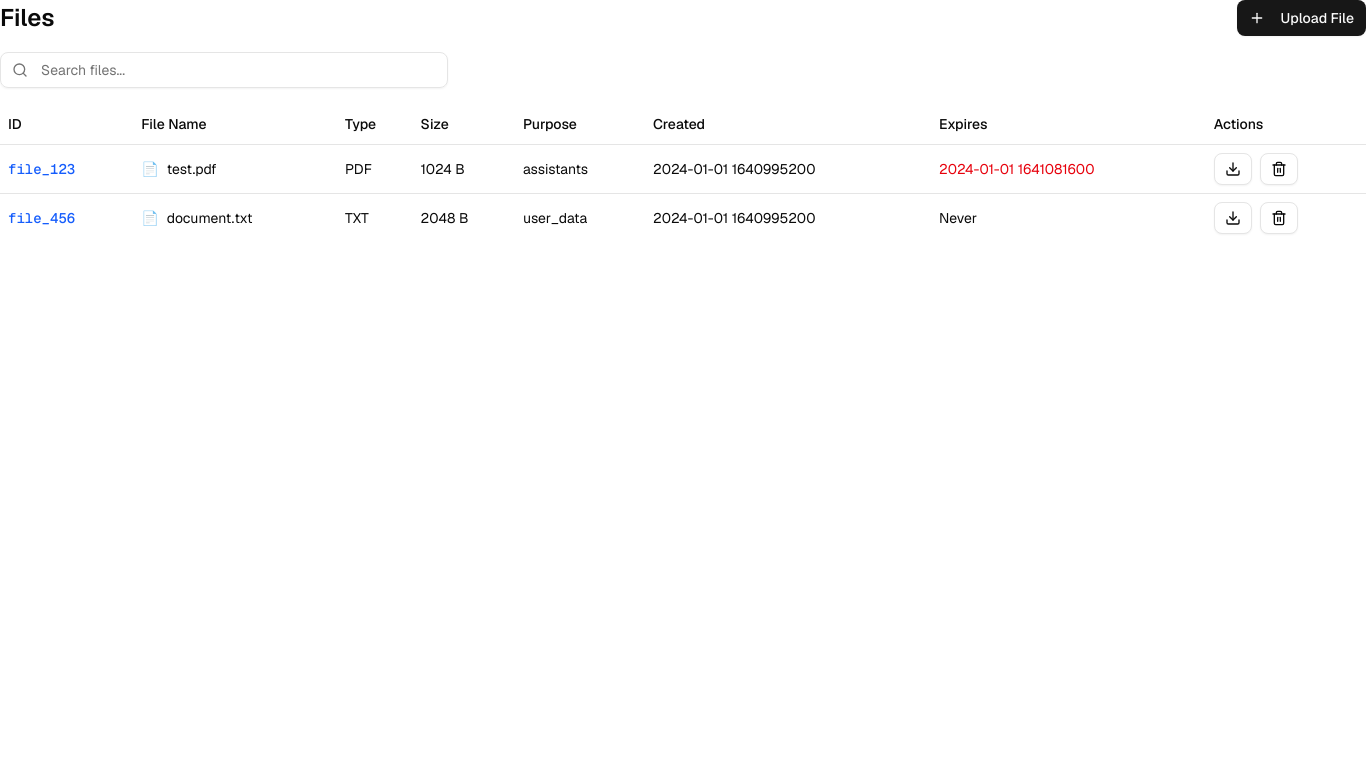
it: FilesManagement › Upload Modal › opens upload modal when upload button clicked
This screenshot has width=1366, height=768.
What coordinates should you click on to do the following:
click the button "Upload File"
I would click on:
 (1301, 18)
Its box is 1237,0 -> 1365,36.
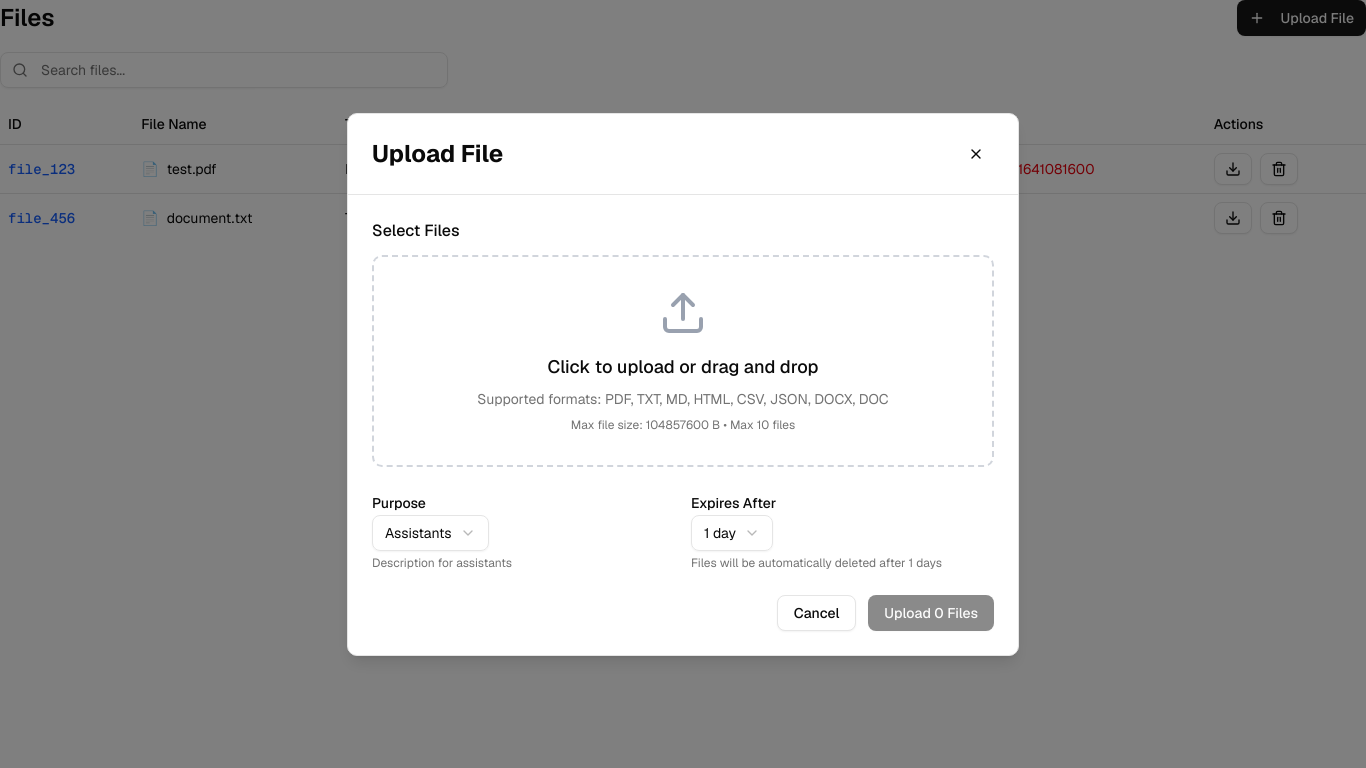
Expected: the heading "Upload File" is shown, 372,138 -> 503,170
Expected: the text "Select Files" is shown, 372,220 -> 460,240
